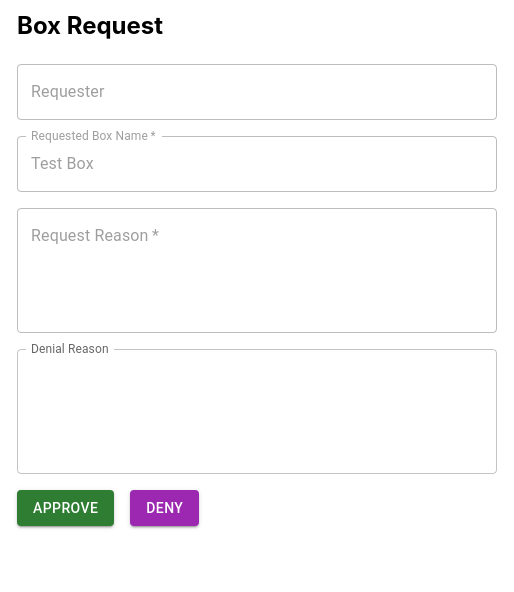
Test: BoxRequestForm › Error message is displayed when Denial Reason is empty on Deny
Force the click — RTL allows this even if disabled
Click the button "Deny": {"x": 165, "y": 508} x1=130 y1=490 x2=199 y2=526
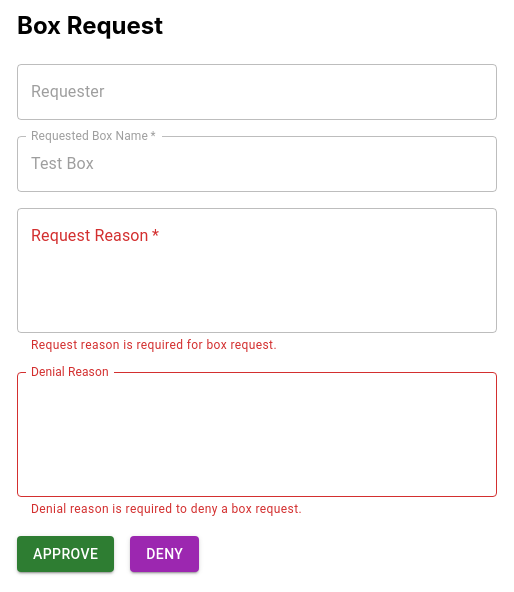
Check: the text "Denial reason is required to deny a box request." is shown, box x1=31 y1=502 x2=302 y2=516
